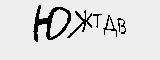В: (115, 17, 129, 38)
Д: (101, 13, 116, 39)
Ж: (66, 10, 94, 43)
Т: (92, 11, 102, 31)
Ю: (32, 5, 72, 45)
